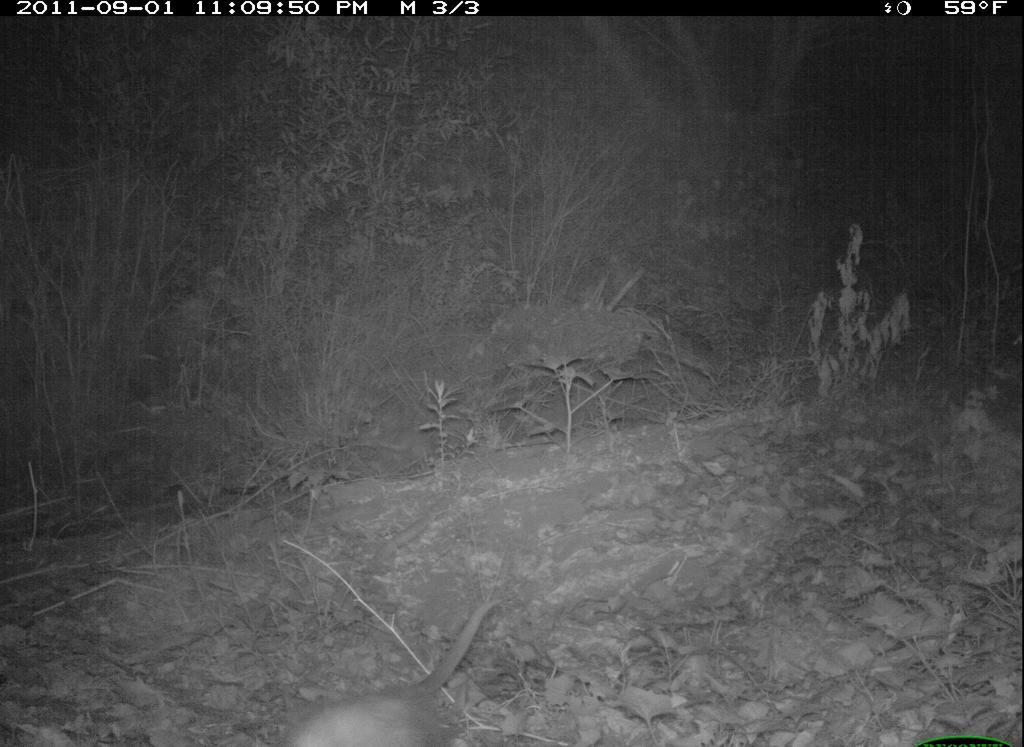opossum: (286, 601, 513, 747)
